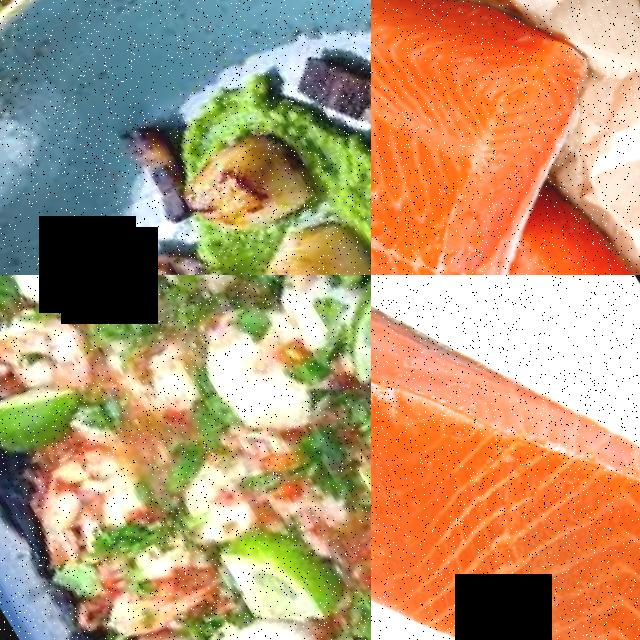lemon: (198, 505, 333, 639), (0, 361, 85, 465), (300, 275, 371, 381)
salmon: (371, 275, 640, 640), (371, 0, 640, 275), (482, 191, 640, 275)
sea scallops: (230, 203, 371, 275)
